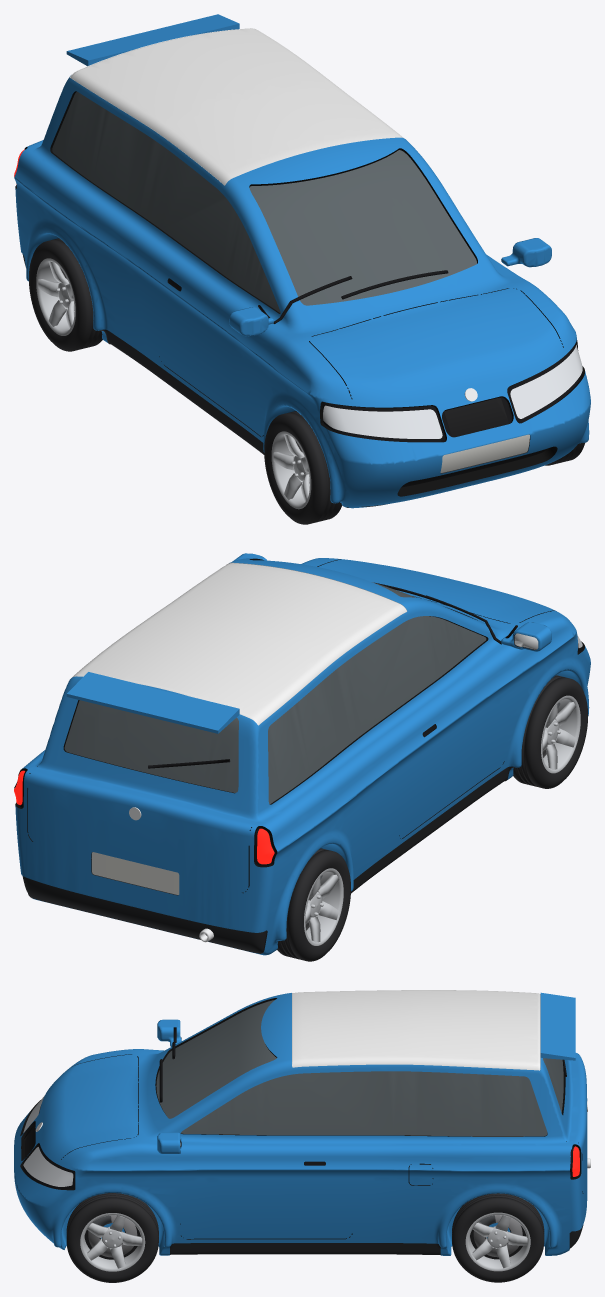
File: aurelle-pico.fbx
3 renders of one model, top to bottom at view 1: azimuth 30°, elevation 25°; view 2: azimuth 150°, elevation 25°; view 3: azimuth 270°, elevation 25°, orthographic. The views are drawn at different scales.
Visible parts, largest first — view 1: Body_LOD0, Glass_LOD0, Accent_LOD0, Wheel_FR_LOD0, Wheel_RR_LOD0, HeadlightLens_LOD0, Walls_LOD0, RoofSpoiler_LOD0, Grille_LOD0, Gloss_LOD0, Trim_LOD0, Plate_LOD0; view 2: Body_LOD0, Accent_LOD0, Glass_LOD0, Wheel_FR_LOD0, Trim_LOD0, Wheel_RR_LOD0, RoofSpoiler_LOD0, Walls_LOD0, Plate_LOD0, TaillightLens_LOD0; view 3: Body_LOD0, Glass_LOD0, Accent_LOD0, Wheel_FL_LOD0, Wheel_RL_LOD0, Trim_LOD0, RoofSpoiler_LOD0, Walls_LOD0, HeadlightLens_LOD0, Gloss_LOD0.
Boxes of the visible parts, x1,y1,x2,y2 form: Body_LOD0: [14, 75, 590, 508]; Glass_LOD0: [52, 91, 476, 313]; Accent_LOD0: [70, 28, 403, 185]; Wheel_FR_LOD0: [264, 411, 342, 524]; Wheel_RR_LOD0: [29, 238, 102, 351]; HeadlightLens_LOD0: [323, 345, 582, 438]; Walls_LOD0: [15, 28, 584, 507]; RoofSpoiler_LOD0: [66, 14, 239, 66]; Grille_LOD0: [401, 397, 547, 487]; Gloss_LOD0: [168, 278, 581, 442]; Trim_LOD0: [22, 254, 264, 454]; Plate_LOD0: [440, 434, 529, 472]; Body_LOD0: [15, 553, 590, 955]; Accent_LOD0: [72, 563, 406, 725]; Glass_LOD0: [64, 582, 486, 804]; Wheel_FR_LOD0: [513, 675, 588, 788]; Trim_LOD0: [22, 766, 512, 952]; Wheel_RR_LOD0: [277, 848, 350, 961]; RoofSpoiler_LOD0: [66, 672, 239, 733]; Walls_LOD0: [14, 558, 584, 953]; Plate_LOD0: [92, 852, 179, 894]; TaillightLens_LOD0: [14, 770, 274, 864]; Body_LOD0: [14, 993, 587, 1255]; Glass_LOD0: [156, 1000, 563, 1136]; Accent_LOD0: [292, 990, 540, 1070]; Wheel_FL_LOD0: [66, 1193, 158, 1282]; Wheel_RL_LOD0: [452, 1193, 544, 1282]; Trim_LOD0: [170, 1225, 583, 1254]; RoofSpoiler_LOD0: [540, 992, 575, 1060]; Walls_LOD0: [20, 993, 583, 1249]; HeadlightLens_LOD0: [23, 1095, 73, 1186]; Gloss_LOD0: [22, 1106, 577, 1189].
Size of what is drawn, in the model's own units: 1.85 by 1.48 by 3.62.
